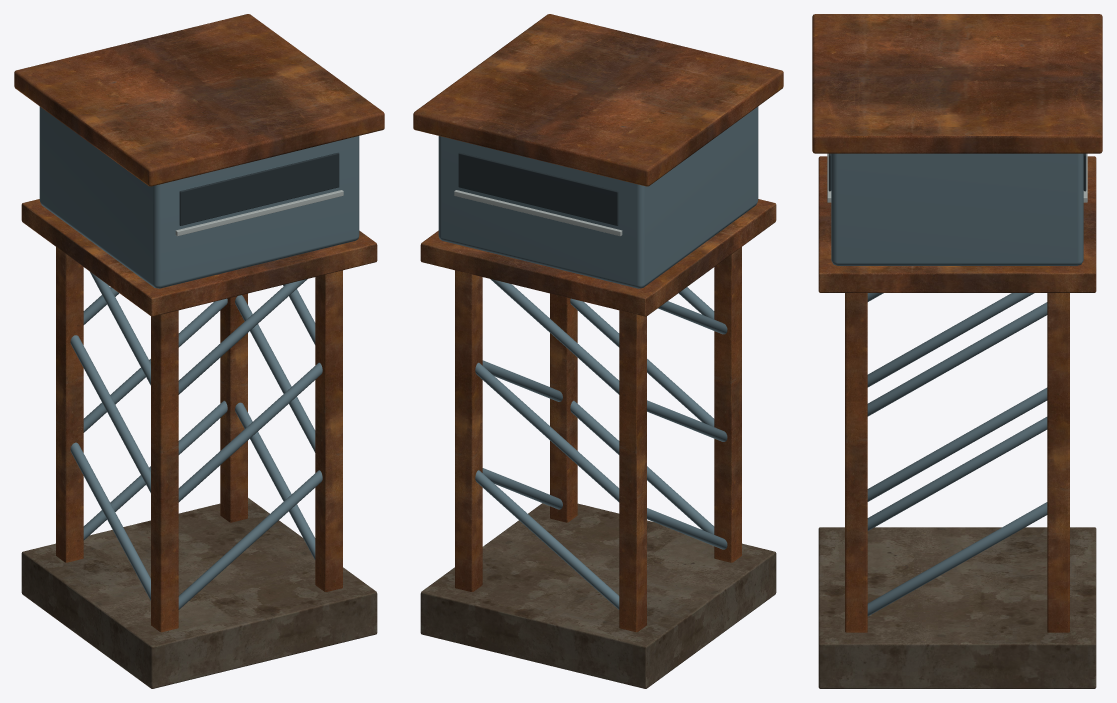
The model's file is industrial-watchtower.glb.
3 renders of one model, left to right at view 1: azimuth 30°, elevation 25°; view 2: azimuth 150°, elevation 25°; view 3: azimuth 270°, elevation 25°, orthographic. The views are drawn at different scales.
Parts seen in each view (by area): view 1: industrial-watchtower; view 2: industrial-watchtower; view 3: industrial-watchtower.
Part boxes in pixels (x1=…): industrial-watchtower: x1=14, y1=14, x2=384, y2=688; industrial-watchtower: x1=413, y1=14, x2=783, y2=688; industrial-watchtower: x1=812, y1=14, x2=1102, y2=688.
Size of the model in its own units: 2.3 by 4.87 by 2.3.
5 materials, 2 textured.
